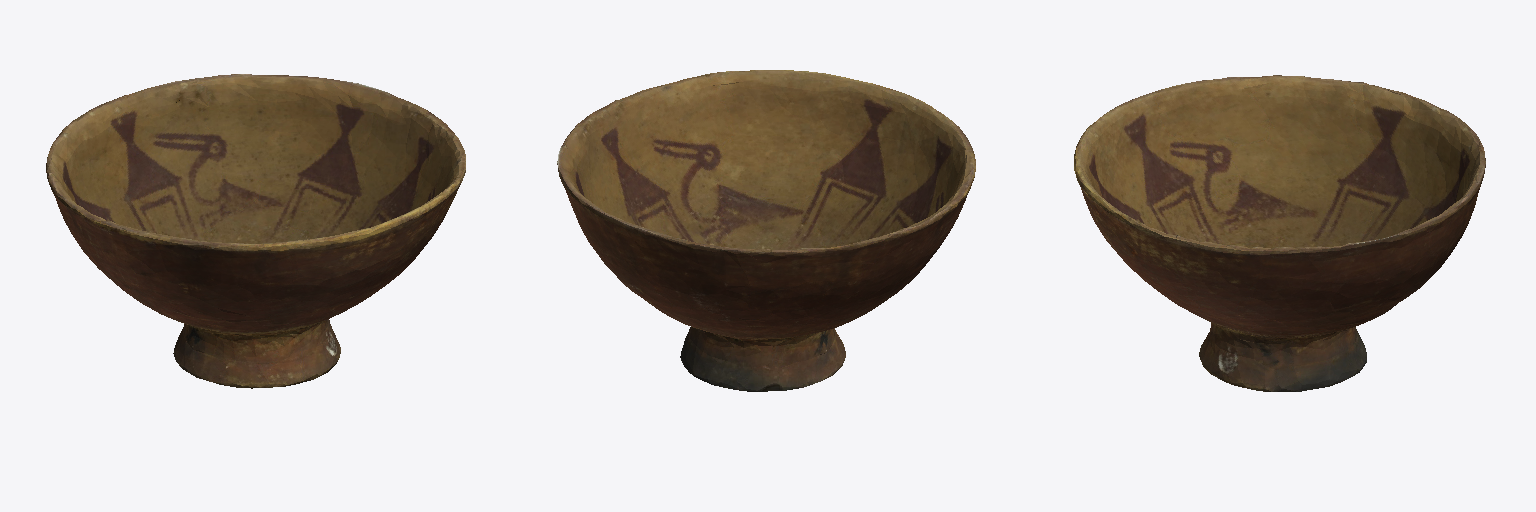
3 renders of one model, left to right at view 1: azimuth 30°, elevation 25°; view 2: azimuth 150°, elevation 25°; view 3: azimuth 270°, elevation 25°, orthographic.
Visible parts, largest first — view 1: piece3274; view 2: piece3274; view 3: piece3274.
Boxes of the visible parts, x1,y1,x2,y2 form: piece3274: [46, 74, 465, 388]; piece3274: [557, 70, 975, 391]; piece3274: [1074, 75, 1485, 391].
Bounding box in the file's own units: 0.444 × 0.2328 × 0.4344.
Materials: 1 (1 with a texture image).